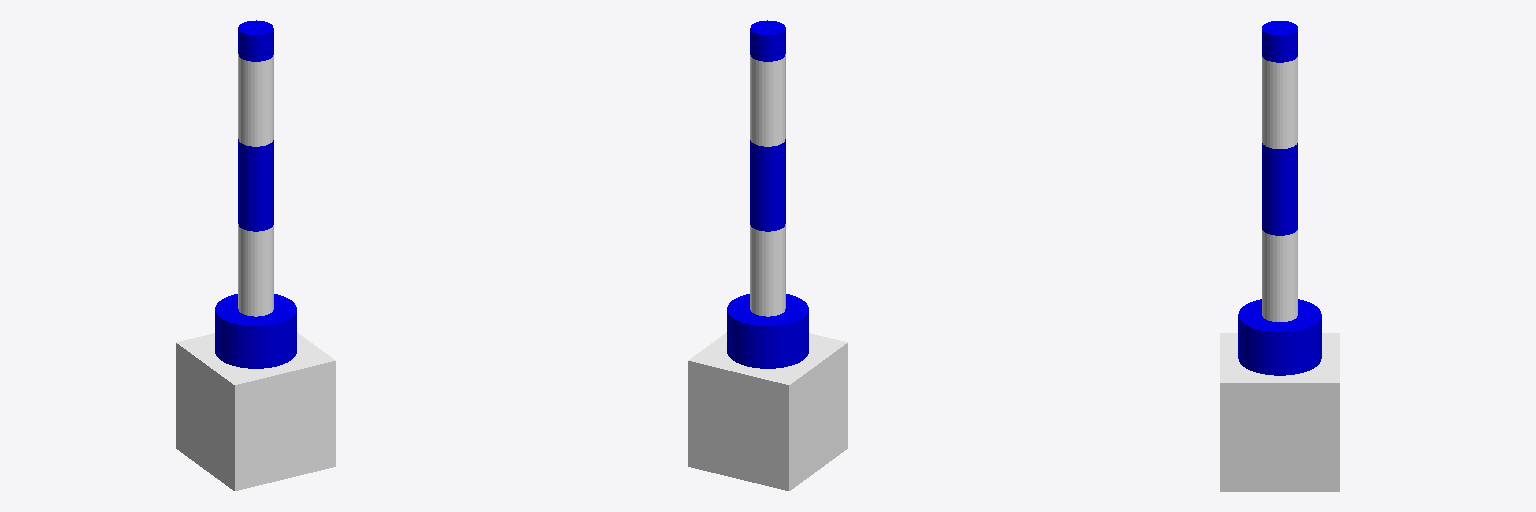
URDF robot description (FASTbot):
<?xml version="1.0" ?> 
<robot name="FASTbot"> 
    <link name="base_link">
		<visual>
			<origin rpy="0 0 0" xyz="0 0 0" />
			<geometry>
				<box size="1 1 1" />
			</geometry>
			<material name="White">
				<color rgba="1.0 1.0 1.0 1.0"/>
			</material>
		</visual>
	</link>

	<joint name="joint_1" type="revolute">
		<axis xyz="0 0 1"/>
		<limit effort="1000.0" lower="-3.14" upper="3.14" velocity="0.5"/>
		<origin rpy="0 0 0" xyz="0 0 0.5"/>
		<parent link="base_link"/>
		<child link="link_1"/>
	</joint>

	<link name="link_1">
		<visual>
			<origin rpy="0 0 0" xyz="0 0 0.2" />
			<geometry>
				<cylinder radius="0.35" length="0.4" />
			</geometry>
			<material name="Blue">
				<color rgba="0.0 0.0 1.0 1.0"/>
			</material>
		</visual>
	</link>

	<joint name="joint_2" type="revolute">
		<axis xyz="0 1 0"/>
		<limit effort="1000.0" lower="-3.14" upper="3.14" velocity="0.5"/>
		<origin rpy="0 0 0" xyz="0 0 0.4"/>
		<parent link="link_1"/>
		<child link="link_2"/>
	</joint>

	<link name="link_2">
		<visual>
			<origin rpy="0 0 0" xyz="0 0 0.4" />
			<geometry>
				<cylinder radius="0.15" length="0.8" />
			</geometry>
			<material name="White">
				<color rgba="1.0 1.0 1.0 1.0"/>
			</material>
		</visual>
	</link>

	<joint name="joint_3" type="revolute">
		<axis xyz="0 1 0"/>
		<limit effort="1000.0" lower="-3.14" upper="3.14" velocity="0.5"/>
		<origin rpy="0 0 0" xyz="0 0 0.8"/>
		<parent link="link_2"/>
		<child link="link_3"/>
	</joint>

	<link name="link_3">
		<visual>
			<origin rpy="0 0 0" xyz="0 0 0.4" />
			<geometry>
				<cylinder radius="0.15" length="0.8" />
			</geometry>
			<material name="Blue">
				<color rgba="0.0 0.0 1.0 1.0"/>
			</material>
		</visual>
	</link>

	<joint name="joint_4" type="revolute">
		<axis xyz="0 1 0"/>
		<limit effort="1000.0" lower="-3.14" upper="3.14" velocity="0.5"/>
		<origin rpy="0 0 0" xyz="0 0 0.8"/>
		<parent link="link_3"/>
		<child link="link_4"/>
	</joint>

	<link name="link_4">
		<visual>
			<origin rpy="0 0 0" xyz="0 0 0.4" />
			<geometry>
				<cylinder radius="0.15" length="0.8" />
			</geometry>
			<material name="White">
				<color rgba="1.0 1.0 1.0 1.0"/>
			</material>
		</visual>
	</link>

	<joint name="joint_5" type="revolute">
		<axis xyz="0 0 1"/>
		<limit effort="1000.0" lower="-3.14" upper="3.14" velocity="0.5"/>
		<origin rpy="0 0 0" xyz="0 0 0.8"/>
		<parent link="link_4"/>
		<child link="link_5"/>
	</joint>

	<link name="link_5">
		<visual>
			<origin rpy="0 0 0" xyz="0 0 0.125" />
			<geometry>
				<cylinder radius="0.15" length="0.25" />
			</geometry>
			<material name="Blue">
				<color rgba="0.0 0.0 1.0 1.0"/>
			</material>
		</visual>
	</link> 
</robot>

--- Render facts (derived) ---
3 views of the same robot in one strip: view 1: azimuth 30°, elevation 25°; view 2: azimuth 150°, elevation 25°; view 3: azimuth 270°, elevation 25° (orthographic).
Model FASTbot with 6 links and 5 joints (5 revolute), rooted at base_link, posed all joints at 0.
Links seen in each view (by area): view 1: base_link, link_1, link_2, link_3, link_4, link_5; view 2: base_link, link_1, link_2, link_3, link_4, link_5; view 3: base_link, link_1, link_3, link_2, link_4, link_5.
Boxes of the visible links, x1,y1,x2,y2 form: base_link: (176, 332, 335, 490); link_1: (215, 294, 296, 368); link_2: (238, 224, 273, 316); link_3: (238, 139, 273, 231); link_4: (238, 54, 273, 146); link_5: (238, 20, 273, 61); base_link: (688, 332, 847, 490); link_1: (727, 294, 808, 368); link_2: (750, 224, 785, 316); link_3: (750, 139, 785, 231); link_4: (750, 54, 785, 146); link_5: (750, 20, 785, 61); base_link: (1220, 333, 1339, 491); link_1: (1238, 299, 1321, 375); link_3: (1262, 143, 1297, 235); link_2: (1262, 230, 1297, 321); link_4: (1262, 57, 1297, 148); link_5: (1262, 21, 1297, 62).
Bounding box of the posed robot: 1 × 1 × 4.05 m (x, y, z).
Geometry: primitives only (box / cylinder / sphere), no mesh files.
